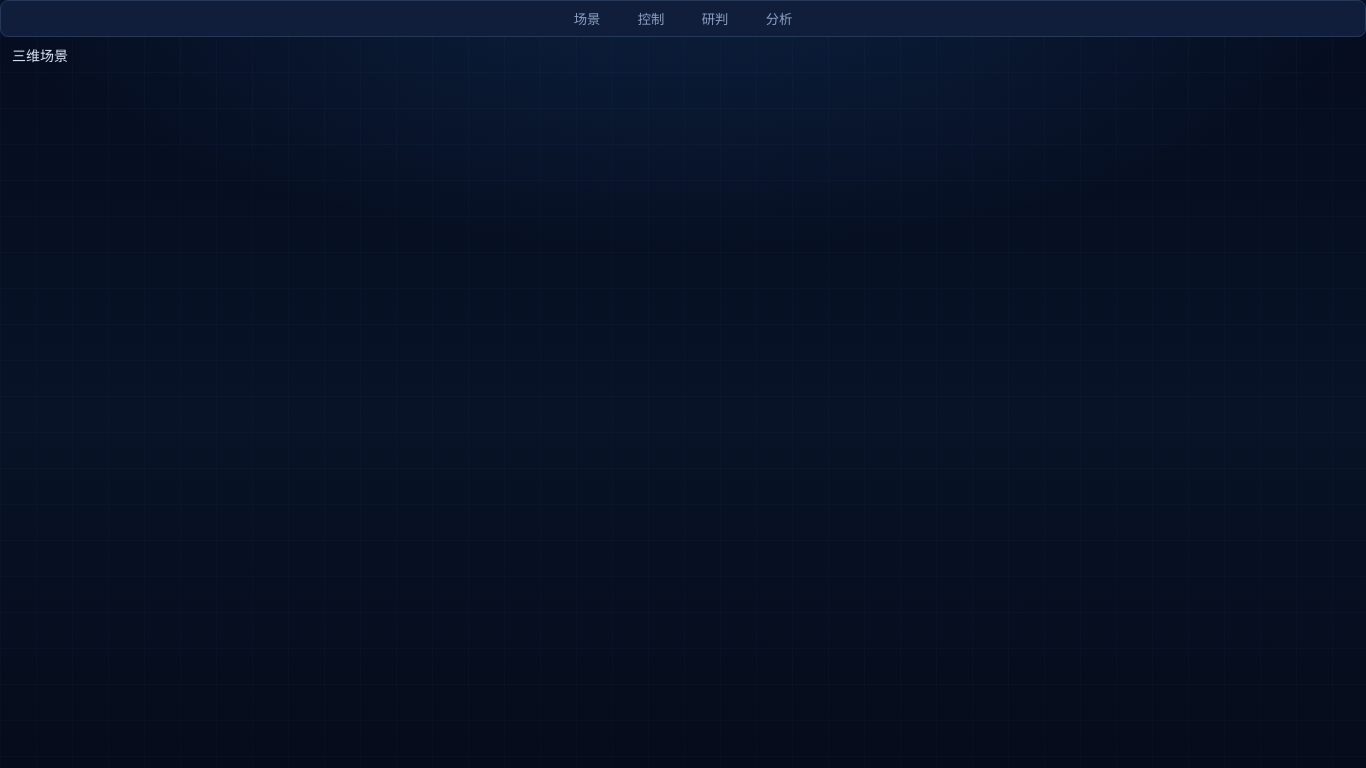
Scenario: ResultAnalysisWorkbench（V6 一屏布局） › uses geological judgement label and exposes a dedicated judgement focus mode
Step 1. Click the button with test id "workbench-focus-judgement" → (715, 18), box [684, 4, 746, 33]
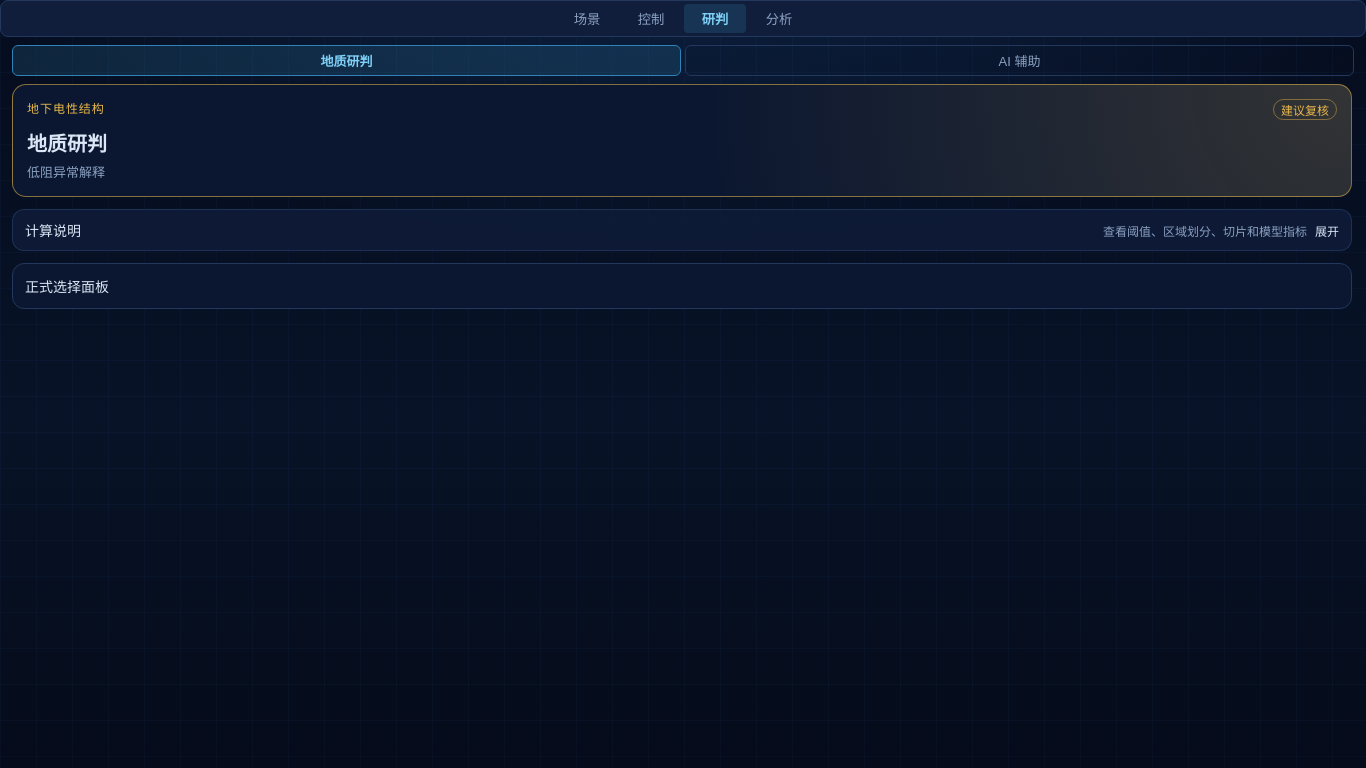
expect the element with test id "result-analysis-side" is shown: met, box [12, 45, 1354, 309]
